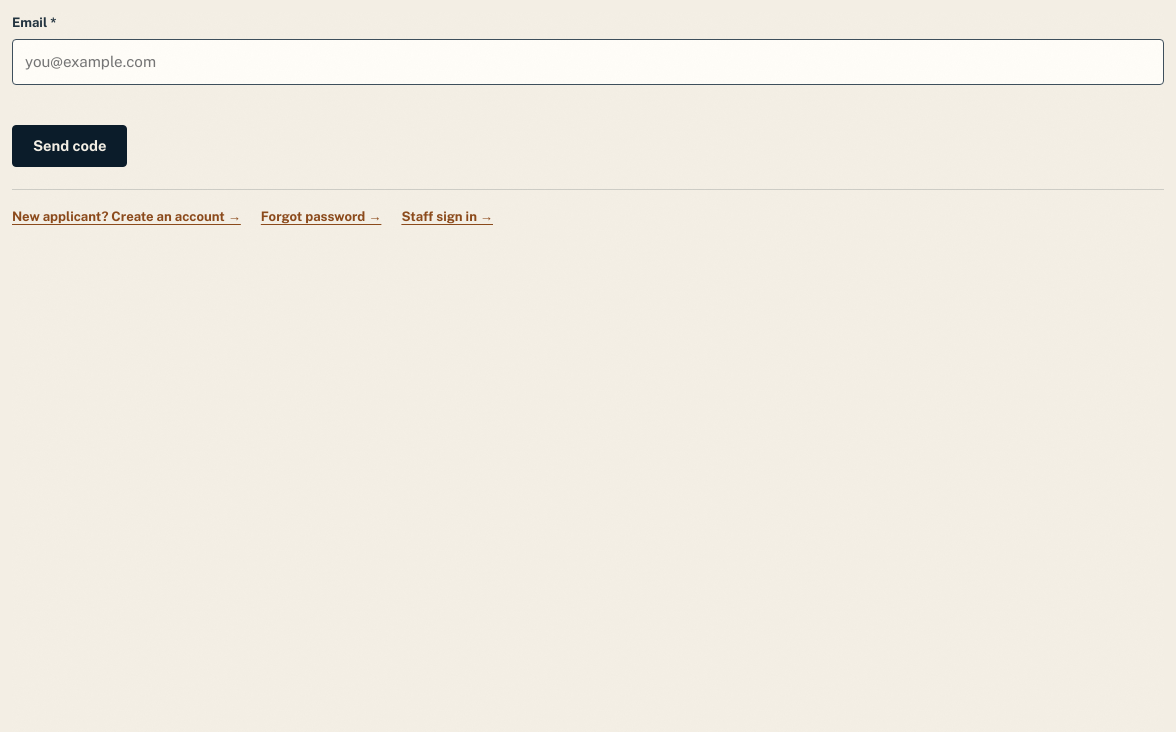
Scenario: Supabase sign-in privacy › keeps an unknown-account OTP response in the same generic code state
Type "unknown@example.test" into the field labelled "Email *".
click(588, 62); type("unknown@example.test")  # box x1=12 y1=39 x2=1164 y2=85
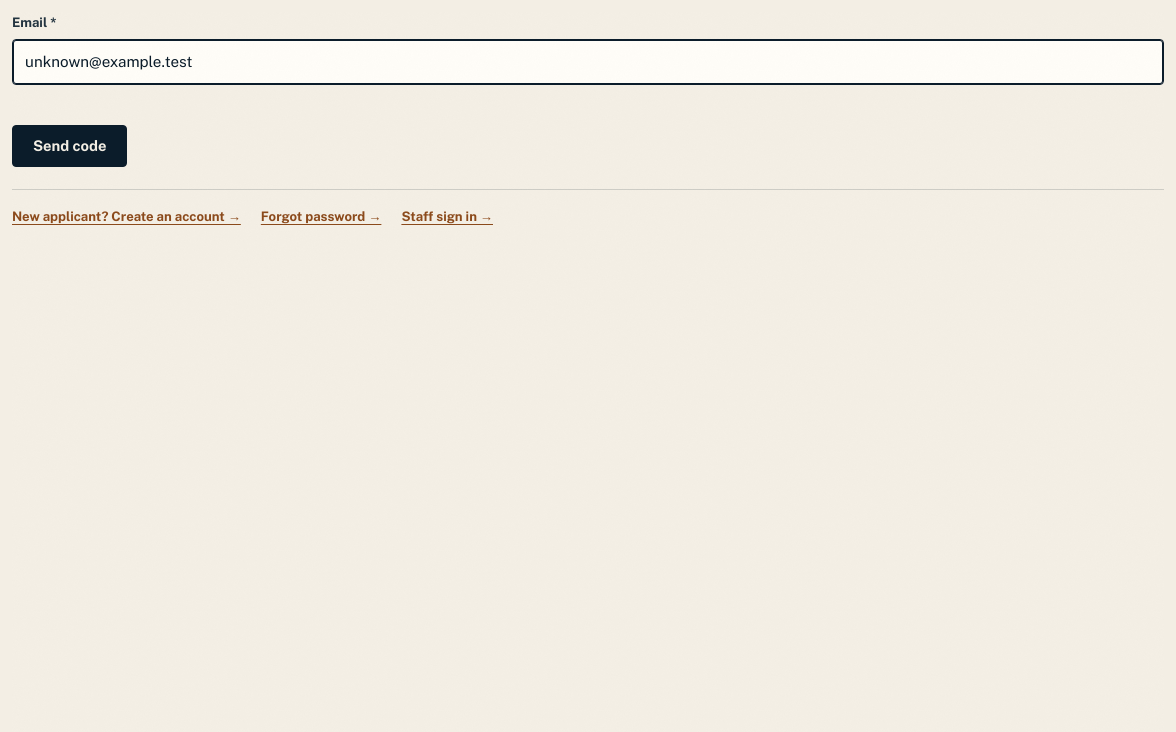
Click the button "Send code".
click(70, 146)  # box x1=12 y1=125 x2=128 y2=167
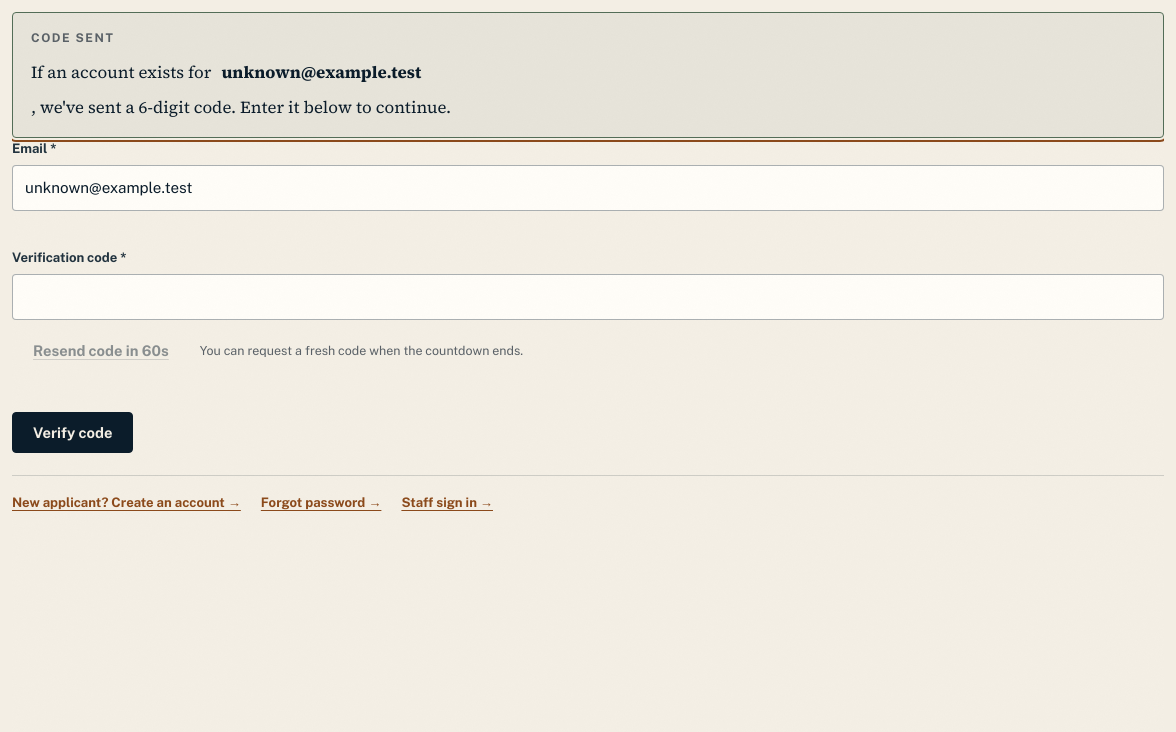
Result: the field labelled "Verification code *" is shown at x1=12 y1=274 x2=1164 y2=320
